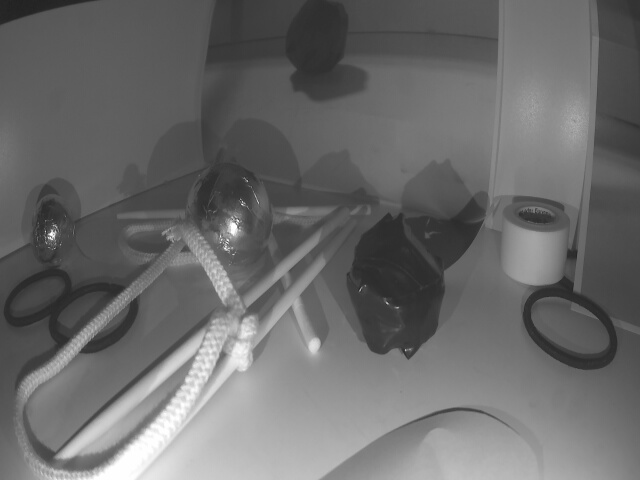Dead: (349, 224, 442, 352)
Live: (184, 164, 273, 269), (31, 199, 76, 268)
